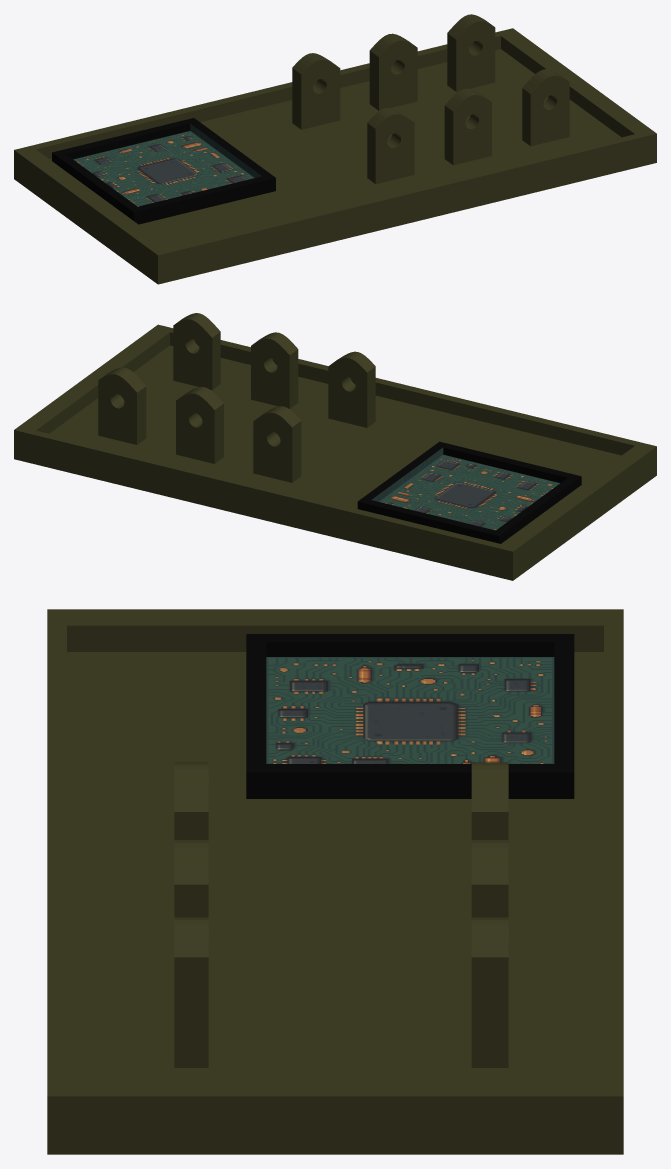
File: circuit board.fbx
3 renders of one model, top to bottom at view 1: azimuth 30°, elevation 25°; view 2: azimuth 150°, elevation 25°; view 3: azimuth 270°, elevation 25°, orthographic. The views are drawn at different scales.
Visible parts, largest first — view 1: bf8d8d5d-deb4-4081-ac85-58e04fced184; view 2: bf8d8d5d-deb4-4081-ac85-58e04fced184; view 3: bf8d8d5d-deb4-4081-ac85-58e04fced184.
Boxes of the visible parts, <box> form: bf8d8d5d-deb4-4081-ac85-58e04fced184: <box>14,14,656,284</box>; bf8d8d5d-deb4-4081-ac85-58e04fced184: <box>14,313,656,580</box>; bf8d8d5d-deb4-4081-ac85-58e04fced184: <box>47,609,623,1154</box>.
Bounding box in the file's own units: 400 × 62.52 × 200.
3 materials, 1 textured.
